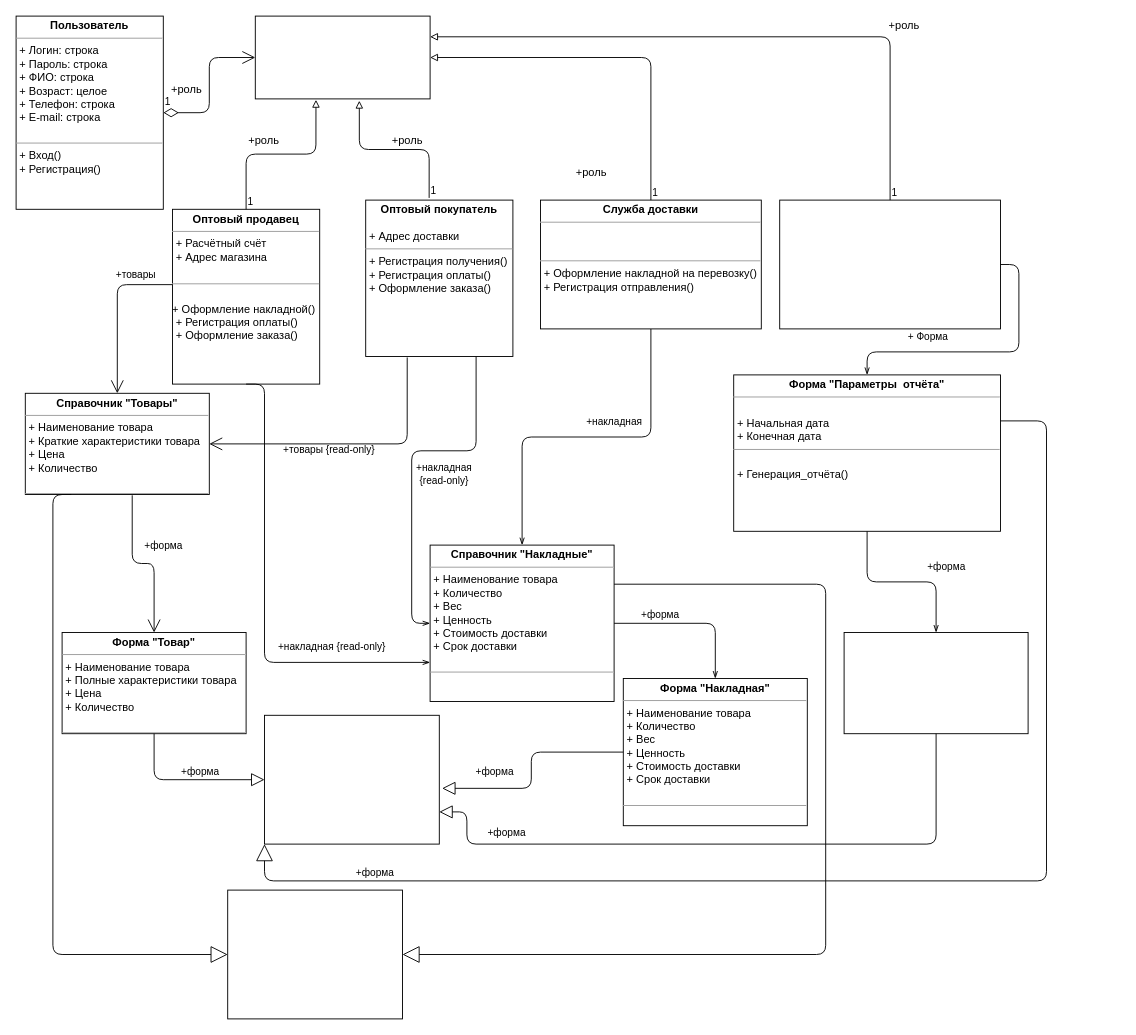
This 1136x1035 diagram has some shape labels left out. The shapes that lost their labels are listed below. From the top down, each one's box as (x1, y1, x2, y2) in pixels, then its label:
(254, 15, 430, 99): "abstract" Роль + выход()
(779, 199, 1000, 329): Руководитель + Просмотр отчёта()
(843, 632, 1028, 734): Форма "Отчёт" + Наименование товара + Средняя цена товара
(264, 714, 439, 844): "abstract" Форма + Сохранить() + Отмена()
(227, 889, 402, 1019): "abstract" Справочник + Создать() + Просмотреть() + Изменить() + Удалить()
